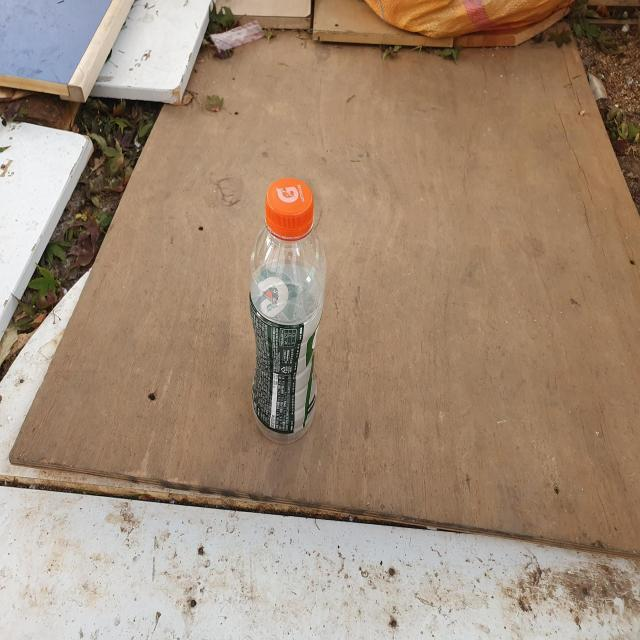plastic: (249, 177, 326, 443)
